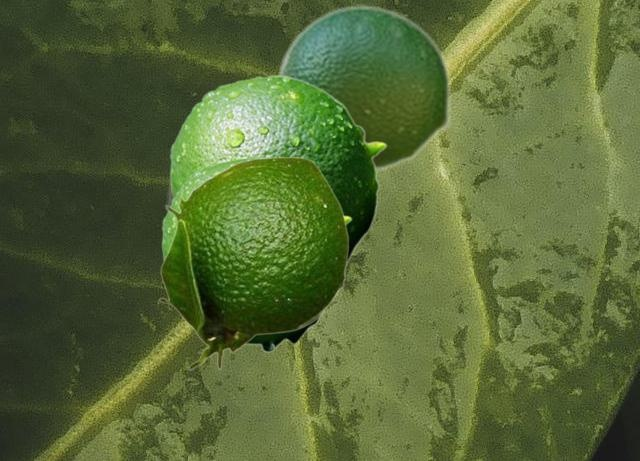dalandan: (169, 74, 386, 263), (157, 156, 348, 370), (161, 156, 351, 352), (276, 4, 451, 172)
